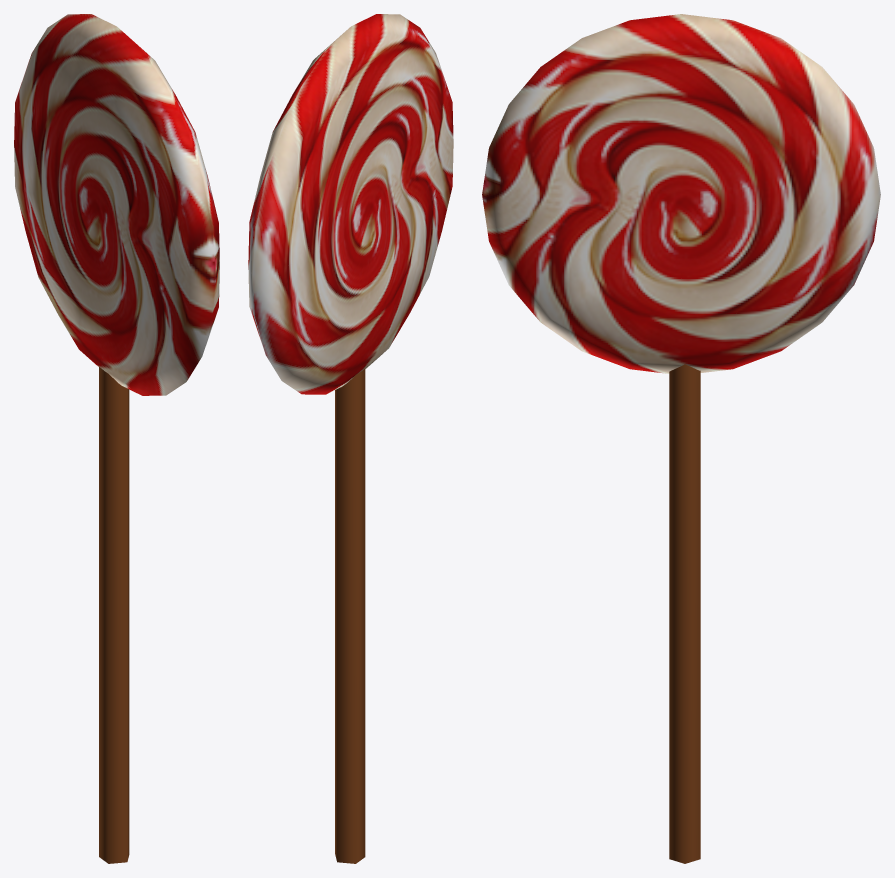
File: Lollipop.fbx
3 renders of one model, left to right at view 1: azimuth 30°, elevation 25°; view 2: azimuth 150°, elevation 25°; view 3: azimuth 270°, elevation 25°, orthographic.
Visible parts, largest first — view 1: lollypop; view 2: lollypop; view 3: lollypop.
Boxes of the visible parts, x1,y1,x2,y2 form: lollypop: [14, 14, 219, 863]; lollypop: [248, 14, 453, 863]; lollypop: [482, 14, 880, 863].
Bounding box in the file's own units: 0.2233 × 4.51 × 1.93.
